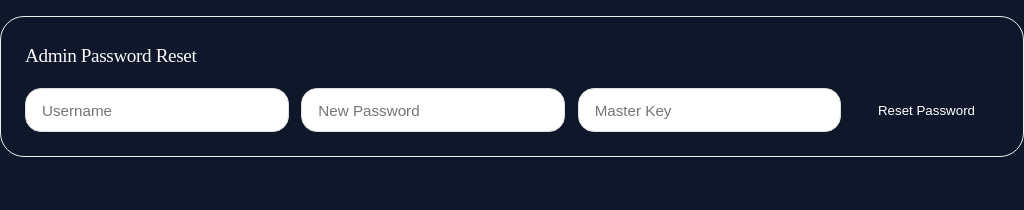
AdminResetForm Component › displays error message on failure
The image size is (1024, 210).
Type "bob" into the field with placeholder "Username". click: (157, 110)
box: [25, 88, 288, 132]
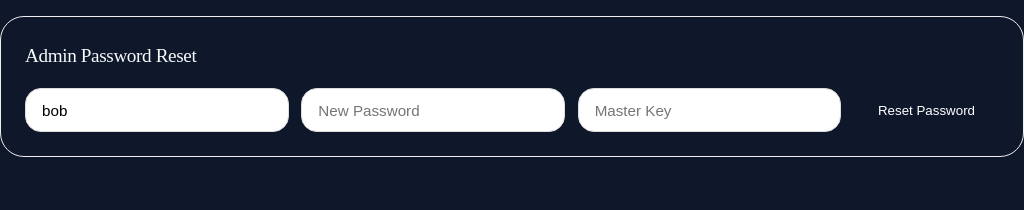
Type "123" into the password field with placeholder "New Password". click: (433, 110)
box: [301, 88, 565, 132]
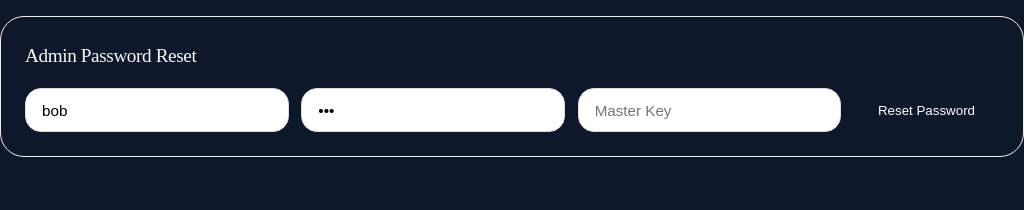
Type "0000" into the field with placeholder "Master Key". click: (709, 110)
box: [578, 88, 841, 132]
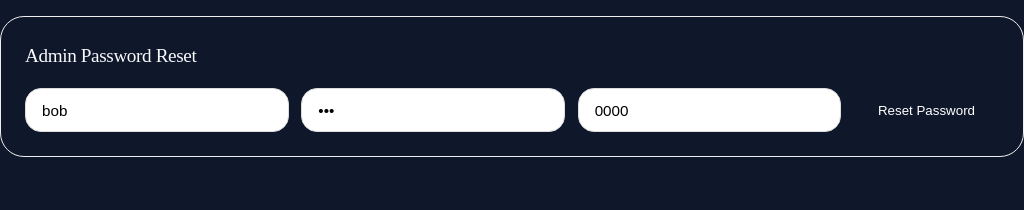
Click the button "Reset Password". click: (926, 110)
box: [854, 90, 999, 130]
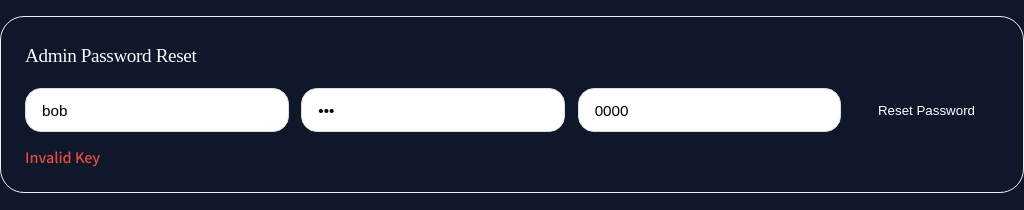
Check: the text "Invalid Key" is shown, box [25, 146, 100, 167]
